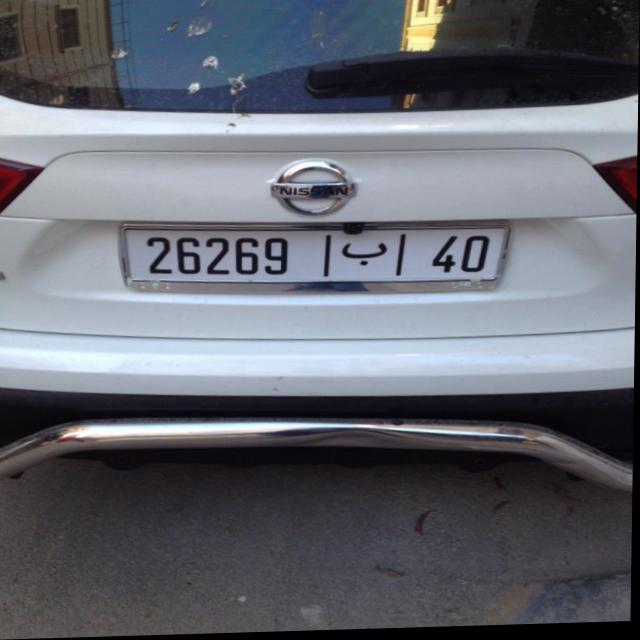License-Plate: (122, 226, 511, 295)
